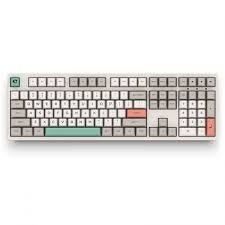keyboard: (2, 60, 217, 150)
